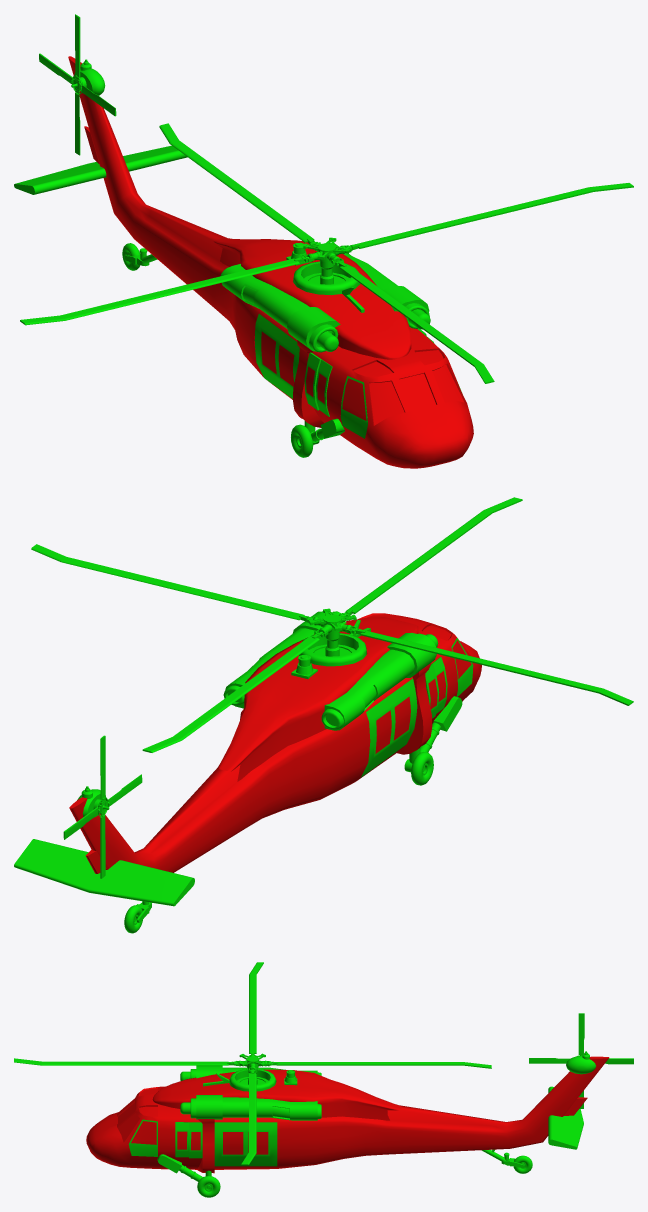
The model's file is PVB_Heli_Engine_Export.fbx.
3 renders of one model, top to bottom at view 1: azimuth 30°, elevation 25°; view 2: azimuth 150°, elevation 25°; view 3: azimuth 270°, elevation 25°, orthographic. The views are drawn at different scales.
Visible parts, largest first — view 1: persp5; view 2: persp5; view 3: persp5.
Boxes of the visible parts, x1=… form: persp5: x1=14, y1=14, x2=633, y2=468; persp5: x1=14, y1=497, x2=633, y2=933; persp5: x1=14, y1=962, x2=633, y2=1197.
Size of the model in its own units: 65.68 by 24.41 by 85.27.
